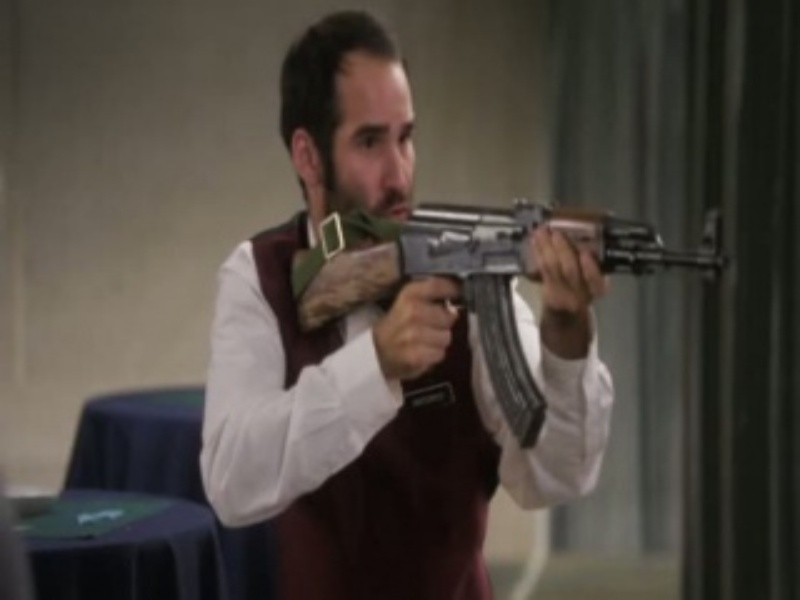person: (198, 13, 612, 600)
weapon: (290, 198, 731, 450)
